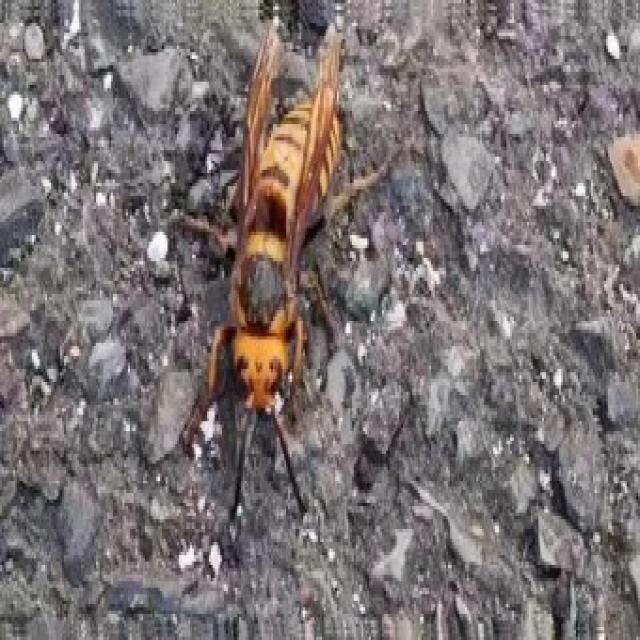Wasp: (208, 20, 368, 518)
